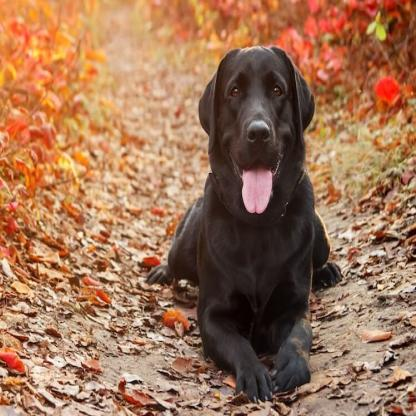dog: (173, 46, 338, 396)
